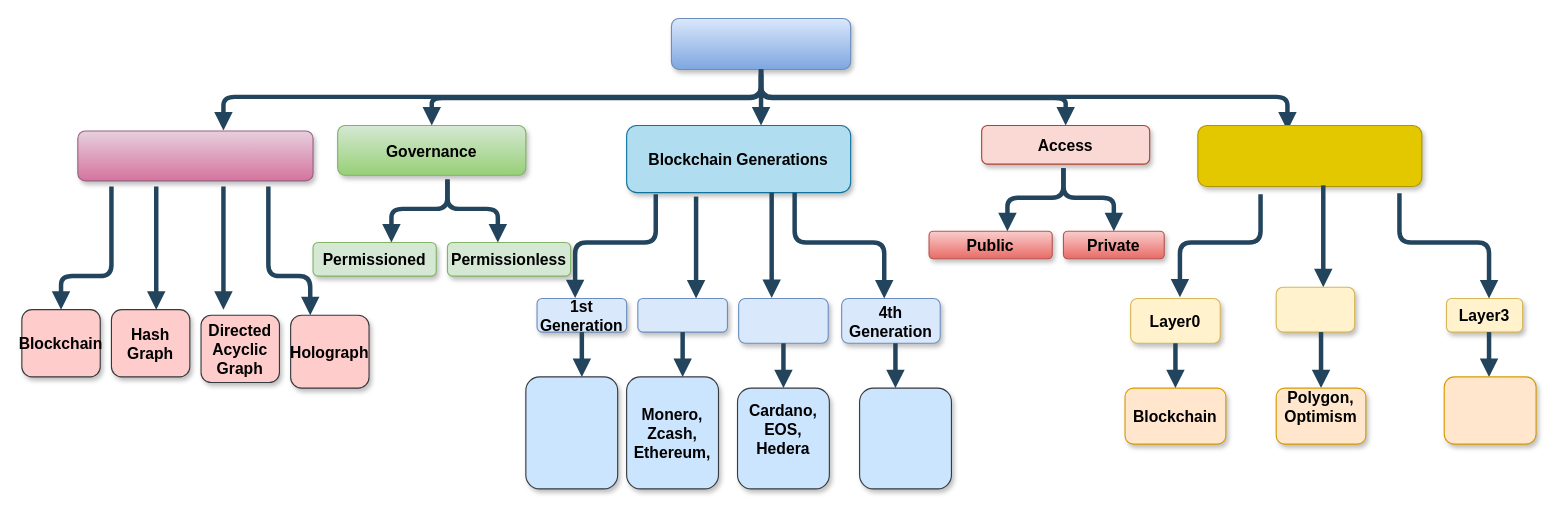
This 1555x507 diagram has some shape labels left out. The centre of each missing label's shape, as x and y in pixels:
"2nd Generation" belongs at point 683,316.
"3rd Generation" belongs at point 784,322.
"Bitcoin, Dogecoin, Litecoin" belongs at point 572,434.
"Dapp, Games" belongs at point 1491,411.
"Distributed Ledger Technology" belongs at point 761,45.
"Layer" belongs at point 1310,157.
"Layer1" belongs at point 1316,311.
"Solana, Aptos, Cosmos, Polkadot" belongs at point 906,439.
"Structure" belongs at point 196,157.
